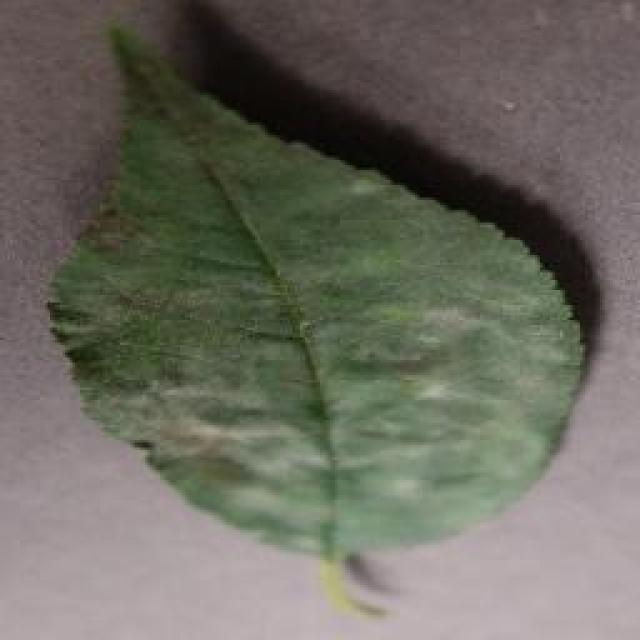Cherry___Powdery_mildew: (35, 8, 600, 632)
